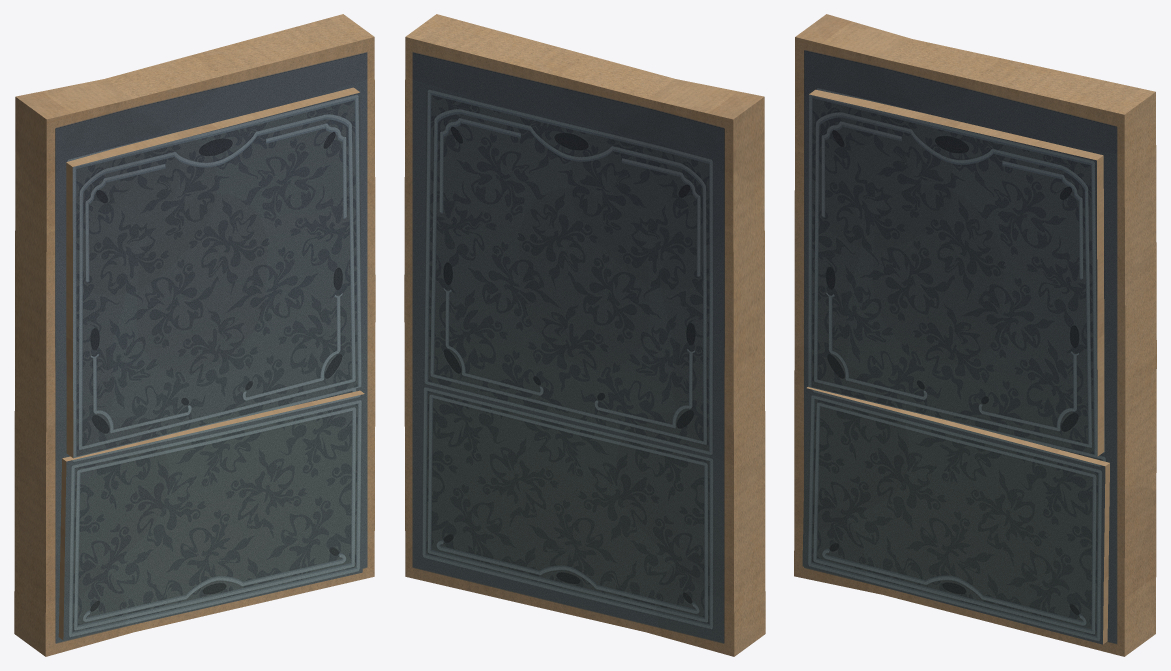
Rendered from SM_Wall_03.fbx.
3 views of the same model, side by side, from view 1: azimuth 30°, elevation 25°; view 2: azimuth 150°, elevation 25°; view 3: azimuth 330°, elevation 25° (orthographic).
Visible parts, largest first — view 1: Wall_03; view 2: Wall_03; view 3: Wall_03.
Part boxes in pixels (box(x1,y1,x2,y2)): Wall_03: box(14, 14, 375, 656); Wall_03: box(404, 14, 765, 656); Wall_03: box(794, 14, 1156, 656).
Bounding box in the file's own units: 796 × 1245 × 159.
